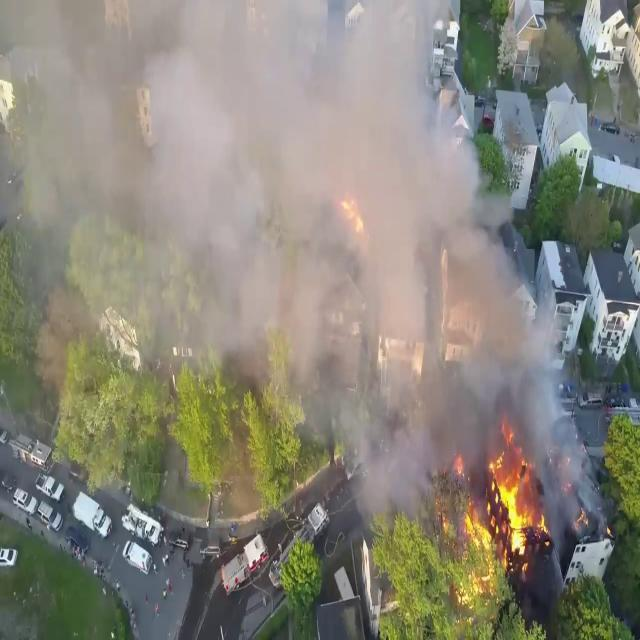Fire: (476, 440, 550, 560)
Smoke: (2, 0, 538, 543)
